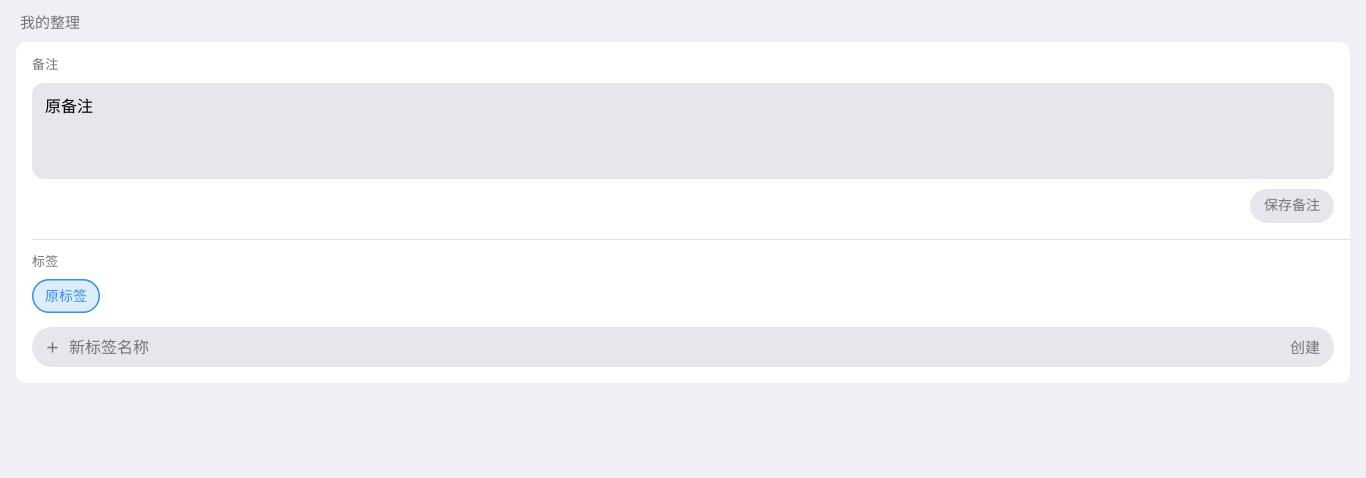
it: allows retrying a failed tag autosave independently of the note
expect the text box labelled "备注" holds "原备注": met, box [32,83,1334,179]
Click the checkbox labelled "原标签" at (66, 296), box [32,279,100,313]
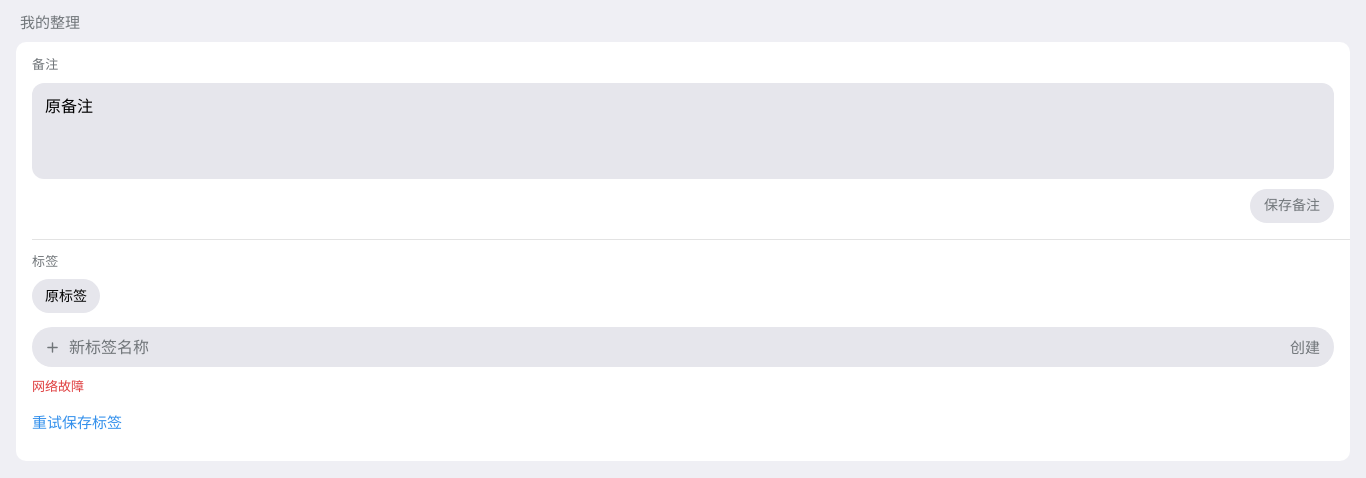
expect the button "保存备注" is disabled: met, box [1250,189,1334,223]
expect the text "网络故障" is shown: met, box [32,378,84,394]
Click the button "重试保存标签" at (77, 423), box [32,401,122,445]
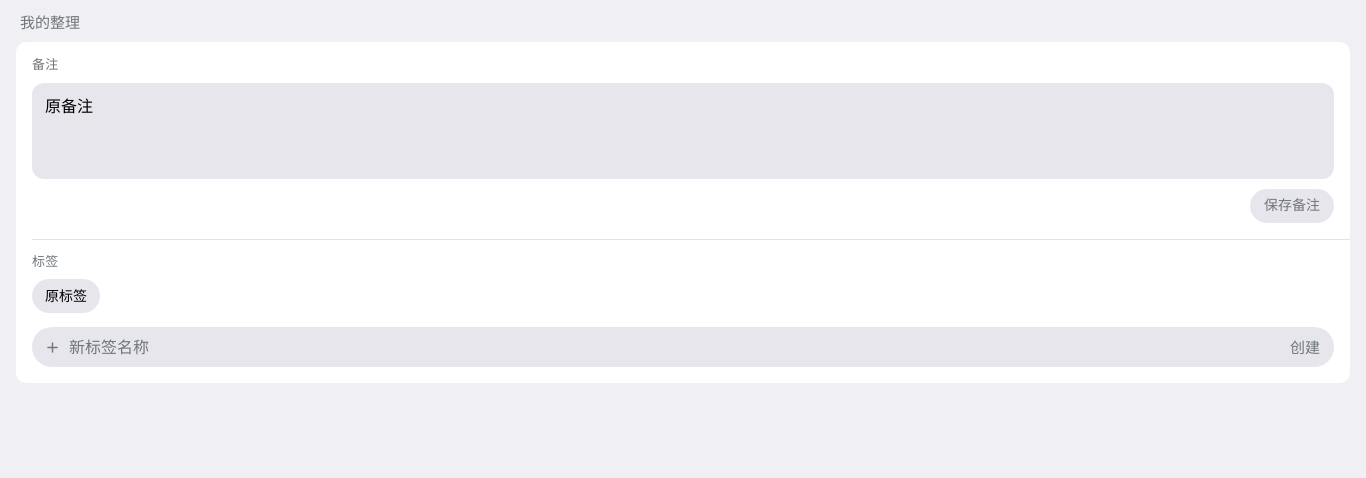
expect the text "网络故障" is gone: met
